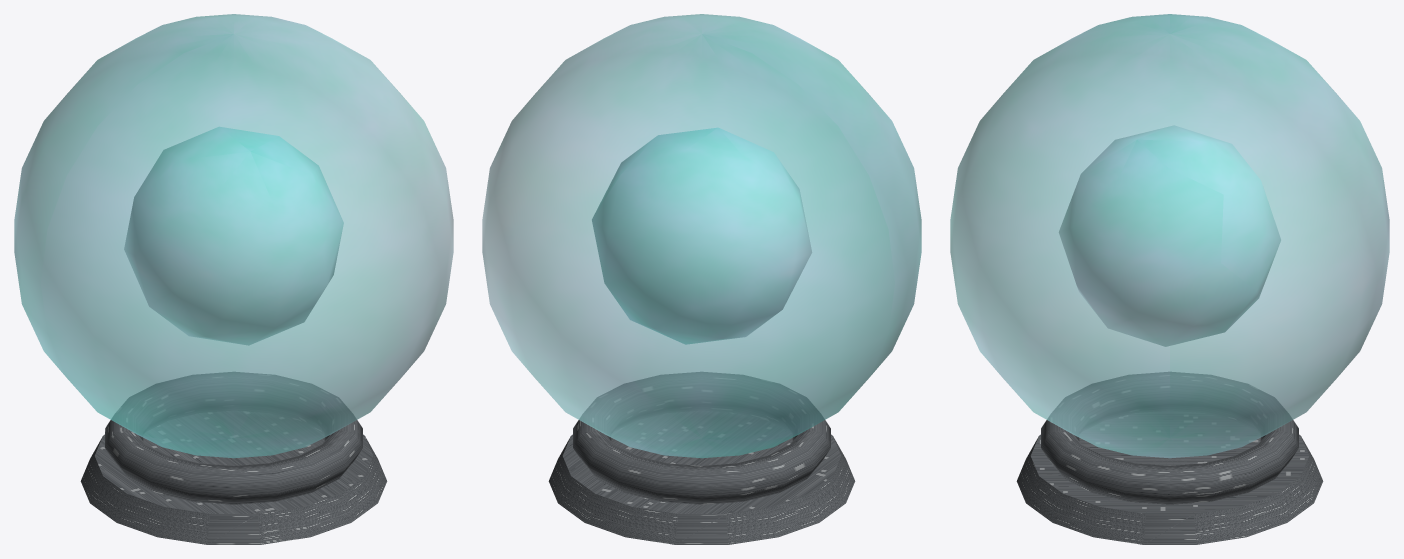
The model's file is xenonmarble.obj.
3 renders of one model, left to right at view 1: azimuth 30°, elevation 25°; view 2: azimuth 150°, elevation 25°; view 3: azimuth 270°, elevation 25°, orthographic.
Visible parts, largest first — view 1: xenonmarble_0_glass, xenonmarble_2_surface, xenonmarble_1_glow; view 2: xenonmarble_0_glass, xenonmarble_2_surface, xenonmarble_1_glow; view 3: xenonmarble_0_glass, xenonmarble_2_surface, xenonmarble_1_glow.
Boxes of the visible parts, bbox=[...] form: xenonmarble_0_glass: bbox=[14, 14, 453, 458]; xenonmarble_2_surface: bbox=[80, 372, 387, 544]; xenonmarble_1_glow: bbox=[124, 126, 343, 345]; xenonmarble_0_glass: bbox=[482, 14, 921, 458]; xenonmarble_2_surface: bbox=[548, 372, 855, 544]; xenonmarble_1_glow: bbox=[592, 127, 811, 344]; xenonmarble_0_glass: bbox=[950, 14, 1389, 458]; xenonmarble_2_surface: bbox=[1016, 372, 1323, 544]; xenonmarble_1_glow: bbox=[1059, 125, 1280, 346].
Size of the model in its own units: 0.16 by 0.177 by 0.1576.
Materials: 3 (3 with a texture image).
